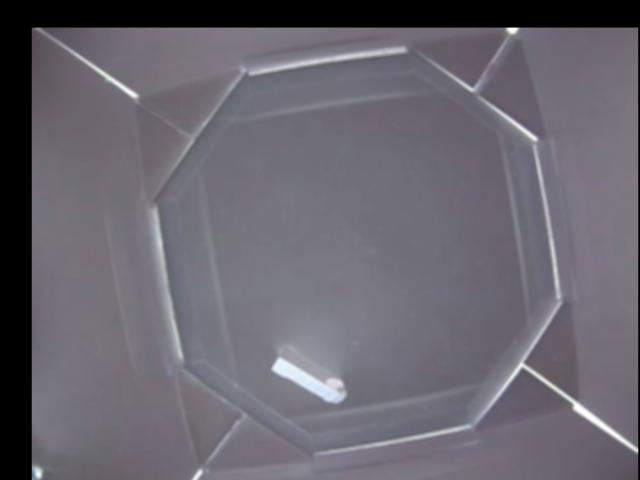China: (272, 346, 347, 401)
